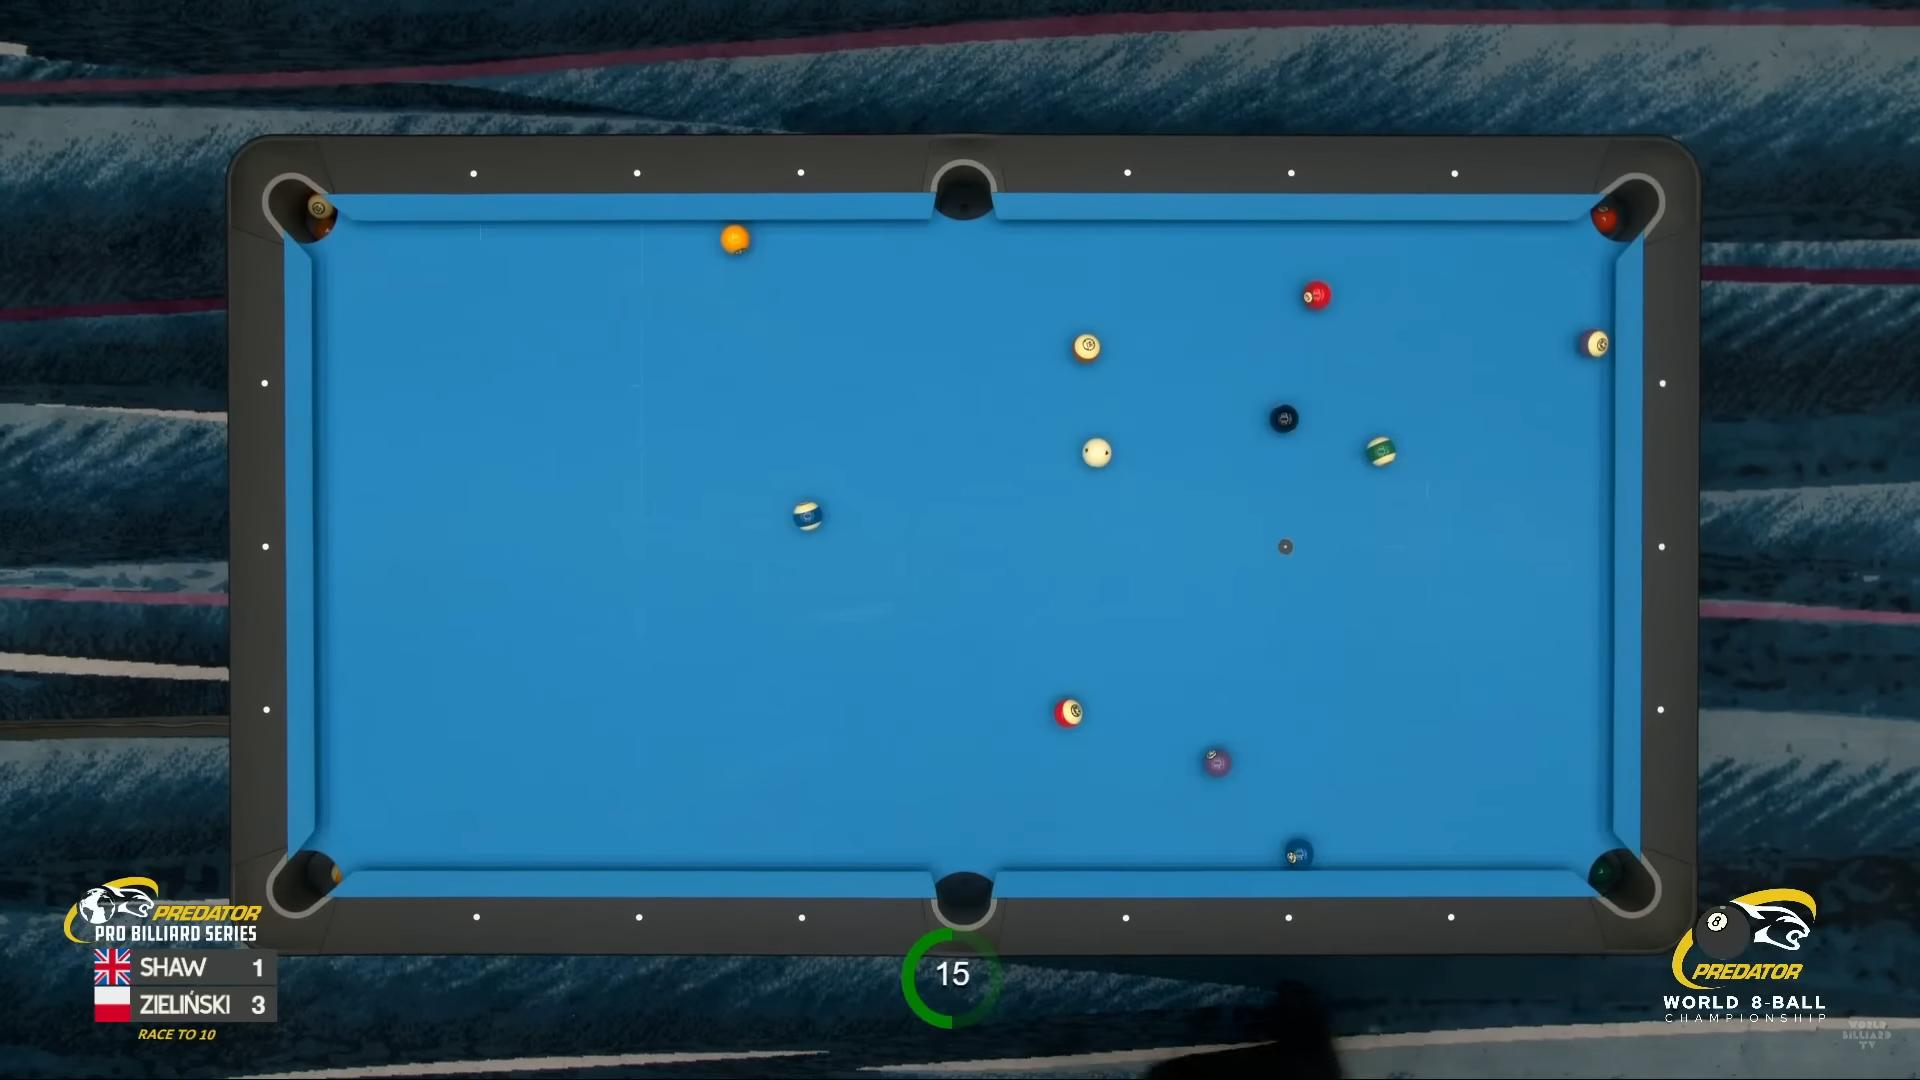Black: (1270, 405, 1299, 434)
Cue: (1083, 438, 1113, 467)
Dot: (465, 166, 480, 181), (1284, 166, 1299, 181), (1654, 703, 1668, 717), (1444, 910, 1458, 924), (258, 539, 273, 554), (257, 376, 272, 390), (629, 167, 644, 181), (794, 166, 808, 179), (1448, 167, 1462, 181), (1655, 541, 1669, 554), (1280, 911, 1295, 924), (1118, 911, 1133, 924), (794, 911, 808, 924), (632, 910, 645, 924), (469, 910, 483, 924), (1121, 166, 1134, 179), (1656, 377, 1669, 390), (261, 703, 274, 716)
Solid: (720, 224, 750, 257), (1286, 839, 1315, 869), (1302, 280, 1331, 309), (1204, 749, 1232, 777)
Striped: (1366, 436, 1399, 465), (793, 501, 823, 531), (1072, 334, 1101, 364), (1580, 328, 1609, 357), (1055, 699, 1084, 728)
